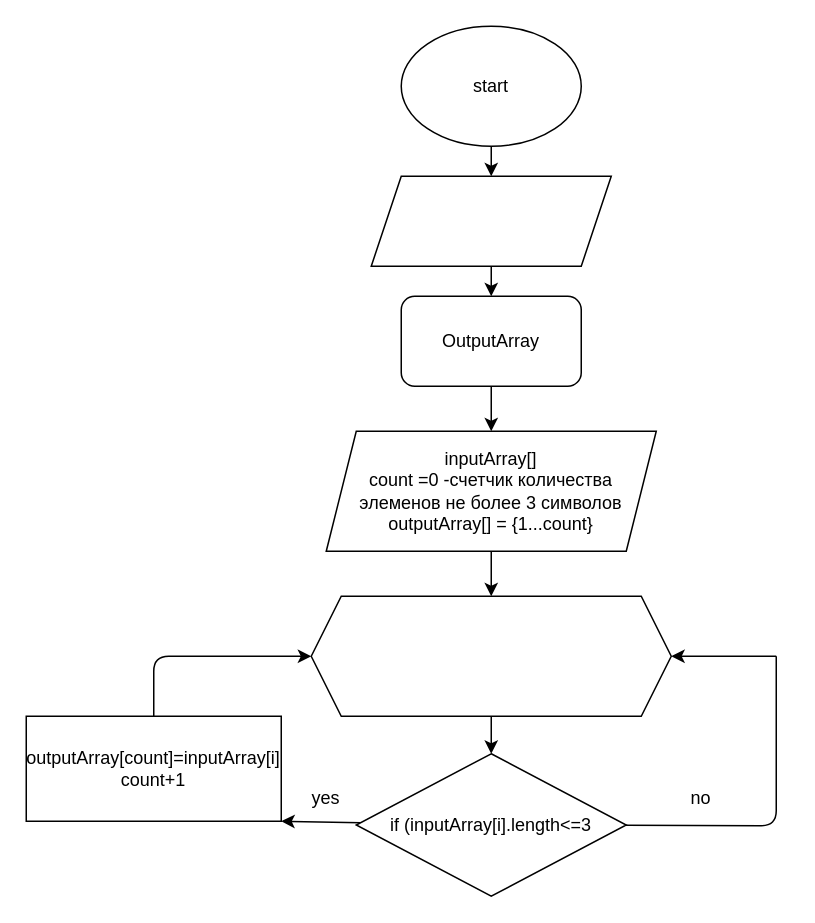
This 815x923 diagram has some shape labels left out. The shapes that lost their labels are listed below. From the top down, each one's centre as x and y in pixels, then its label:
pixel 490 220: input n inputArray[]={1...n}
pixel 490 655: for (i=0; i<inputArray.length; i+1)
